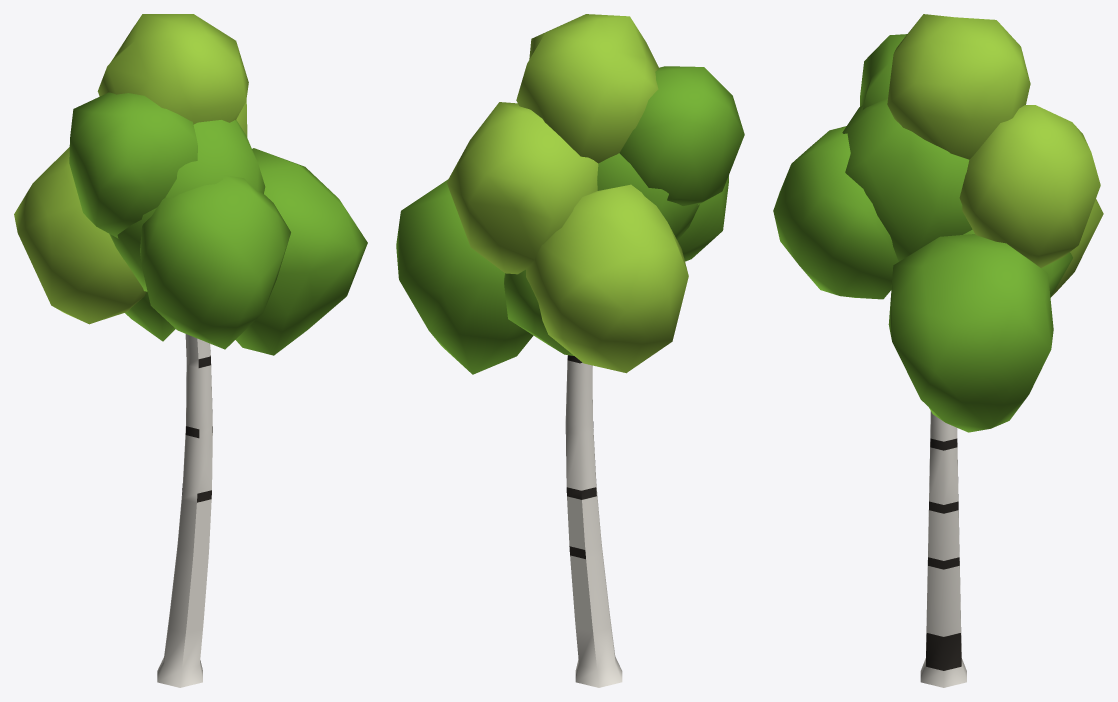
The model's file is birch_tree.glb.
3 views of the same model, side by side, from view 1: azimuth 30°, elevation 25°; view 2: azimuth 150°, elevation 25°; view 3: azimuth 270°, elevation 25° (orthographic).
Visible parts, largest first — view 1: birch_tree; view 2: birch_tree; view 3: birch_tree.
Part boxes in pixels (x1,y1,x2,y2): birch_tree: (14,14,367,687); birch_tree: (396,14,744,687); birch_tree: (773,14,1103,687).
Size of the model in its own units: 2.48 by 5.16 by 2.35.
